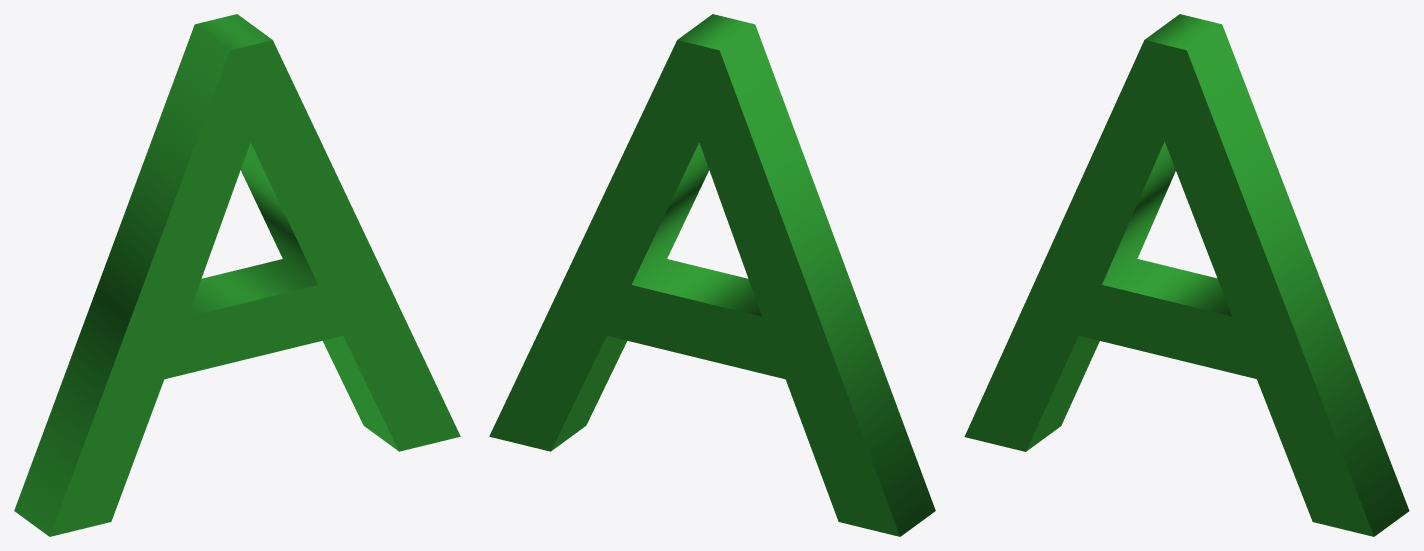
The model's file is Letras_A.fbx.
3 views of the same model, side by side, from view 1: azimuth 30°, elevation 25°; view 2: azimuth 150°, elevation 25°; view 3: azimuth 330°, elevation 25° (orthographic).
Visible parts, largest first — view 1: Text; view 2: Text; view 3: Text.
Boxes of the visible parts, box(x1,y1,x2,y2) form: Text: box(14, 14, 460, 536); Text: box(489, 14, 935, 536); Text: box(964, 14, 1409, 536).
Bounding box in the file's own units: 66.7 × 68.6 × 10.
